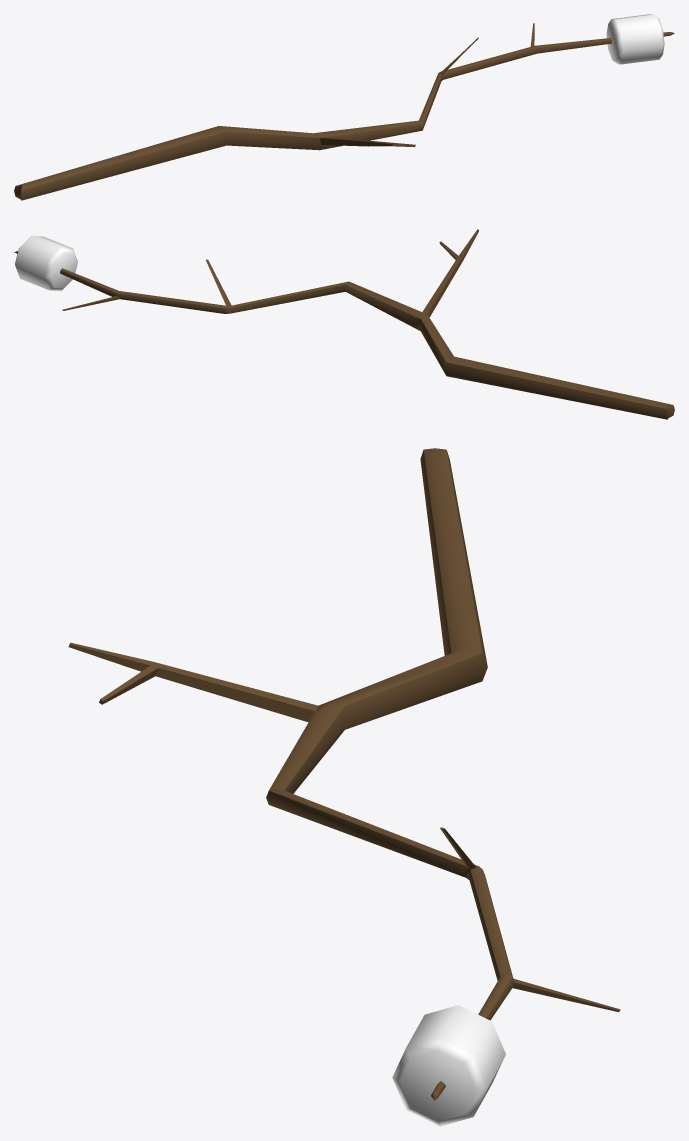
The model's file is branch.fbx.
The picture shows the model from 3 angles, top to bottom: view 1: azimuth 30°, elevation 25°; view 2: azimuth 150°, elevation 25°; view 3: azimuth 270°, elevation 25°; orthographic projection. The views are drawn at different scales.
Visible parts, largest first — view 1: fallen_branch, marshmallow; view 2: fallen_branch, marshmallow; view 3: fallen_branch, marshmallow.
Part boxes in pixels (<box>): fallen_branch: <box>14,23,674,200</box>; marshmallow: <box>606,14,664,64</box>; fallen_branch: <box>14,229,674,419</box>; marshmallow: <box>15,235,77,291</box>; fallen_branch: <box>68,448,620,1100</box>; marshmallow: <box>392,1005,505,1126</box>.
Size of the model in its own units: 103 by 10.3 by 37.32.
